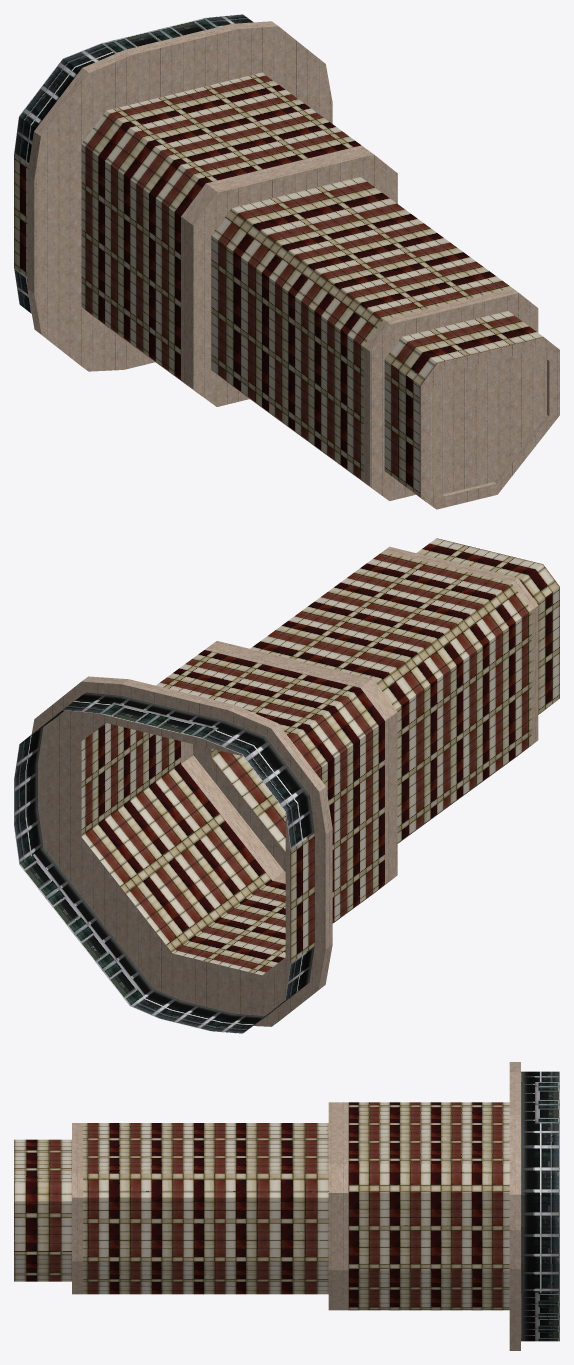
Rendered from skyscraper_windowF_06.obj.
3 views of the same model, one above another, from view 1: azimuth 30°, elevation 25°; view 2: azimuth 150°, elevation 25°; view 3: azimuth 270°, elevation 25° (orthographic). The views are drawn at different scales.
Visible parts, largest first — view 1: Object59; view 2: Object59; view 3: Object59.
Boxes of the visible parts, <box> form: Object59: <box>14,14,559,509</box>; Object59: <box>14,538,559,1033</box>; Object59: <box>14,1062,559,1350</box>.
Size of the model in its own units: 52.71 by 52.84 by 103.
Materials: 4 (4 with a texture image).
